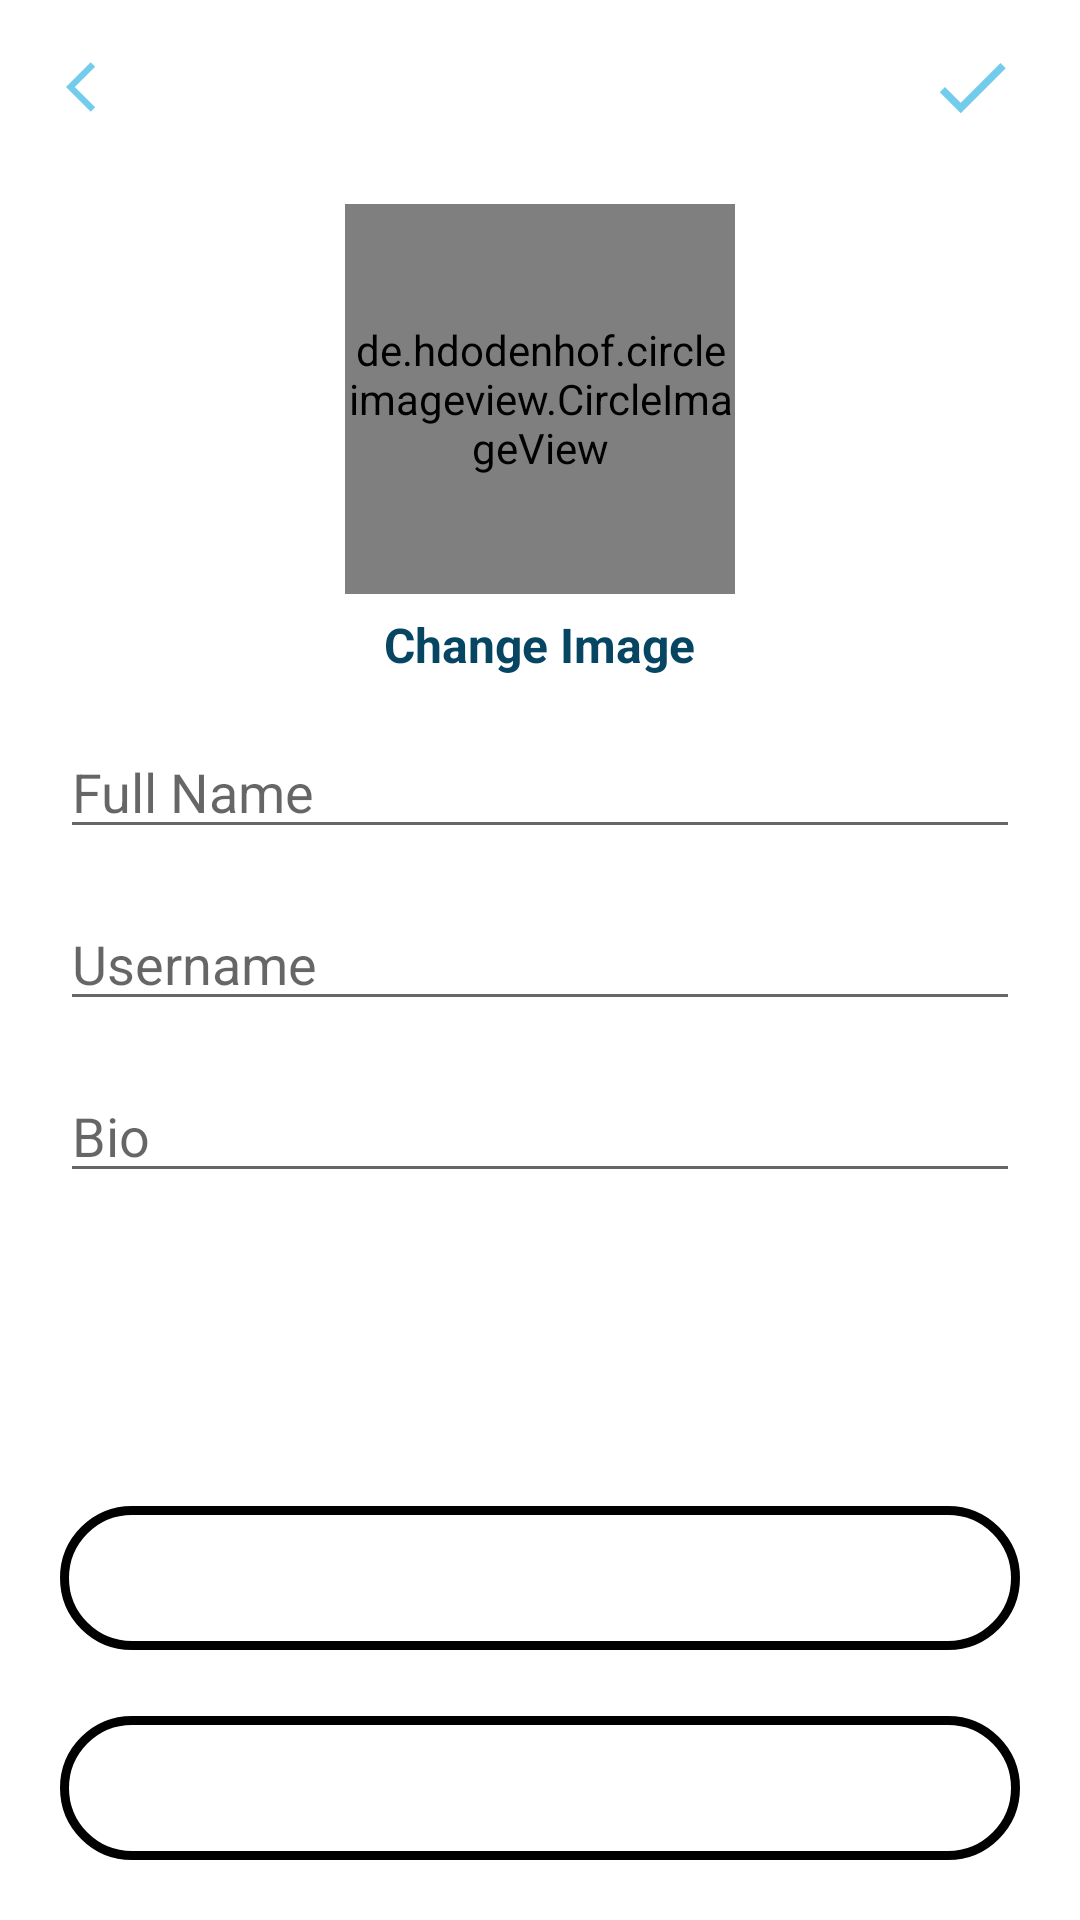

Icon click points for this 1080px×1920px phone screenshot, format point (x, y):
back: point (80, 87)
done: point (973, 88)
